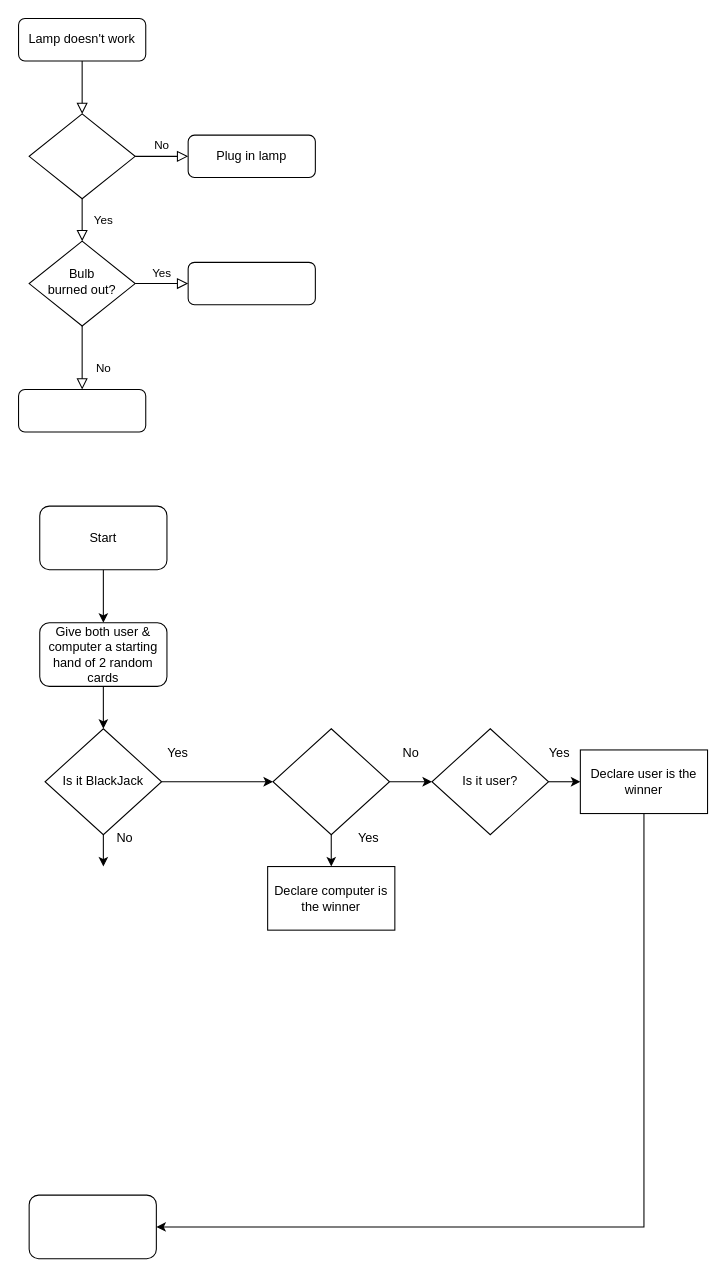
The diagram is 726 pixels wide and 1277 high, and some of its shapes have lost their labels. Here are the shapes that lost their labels. From the top down, the centre of each, then its label:
At pixel 81 156: "Lamp plugged in?".
At pixel 251 283: "Replace Bulb".
At pixel 81 410: "Repair Lamp".
At pixel 331 781: "Is it computer?".
At pixel 92 1226: "End".
